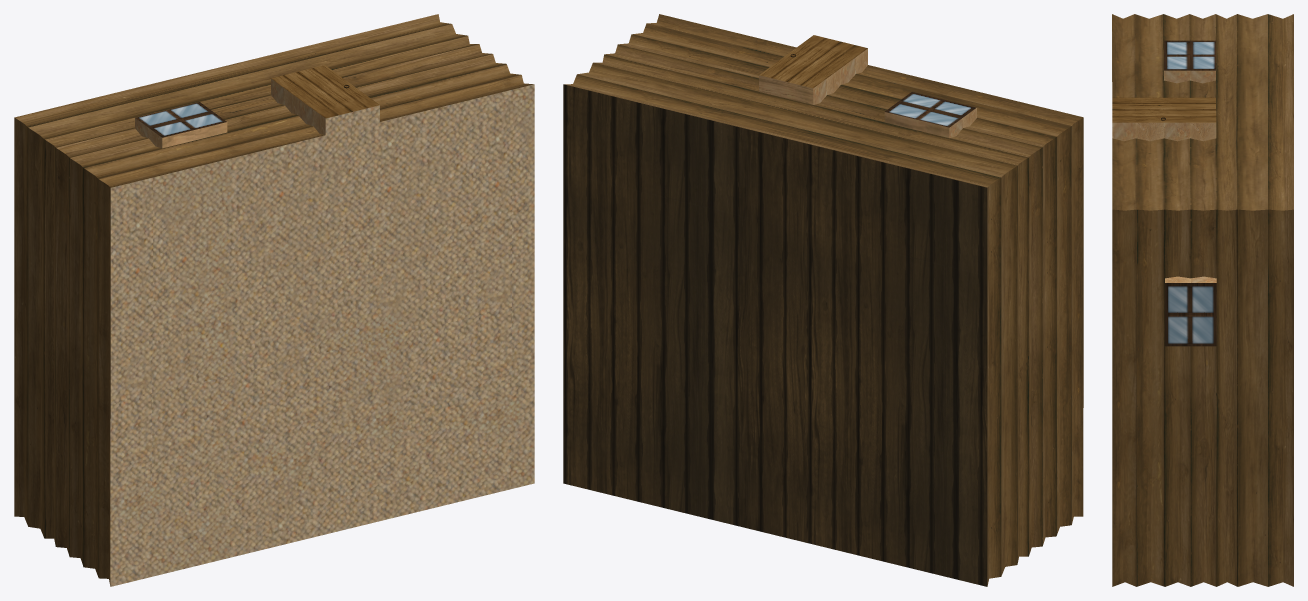
The model's file is Interior_Log_House_C.fbx.
The picture shows the model from 3 angles, left to right: view 1: azimuth 30°, elevation 25°; view 2: azimuth 150°, elevation 25°; view 3: azimuth 270°, elevation 25°; orthographic projection. The views are drawn at different scales.
Visible parts, largest first — view 1: Interior_Log_House_C; view 2: Interior_Log_House_C; view 3: Interior_Log_House_C.
Part boxes in pixels (box(x1,y1,x2,y2)): Interior_Log_House_C: box(14, 14, 534, 586); Interior_Log_House_C: box(563, 14, 1083, 586); Interior_Log_House_C: box(1112, 14, 1293, 586).
Bounding box in the file's own units: 86.33 × 81.17 × 33.11.
